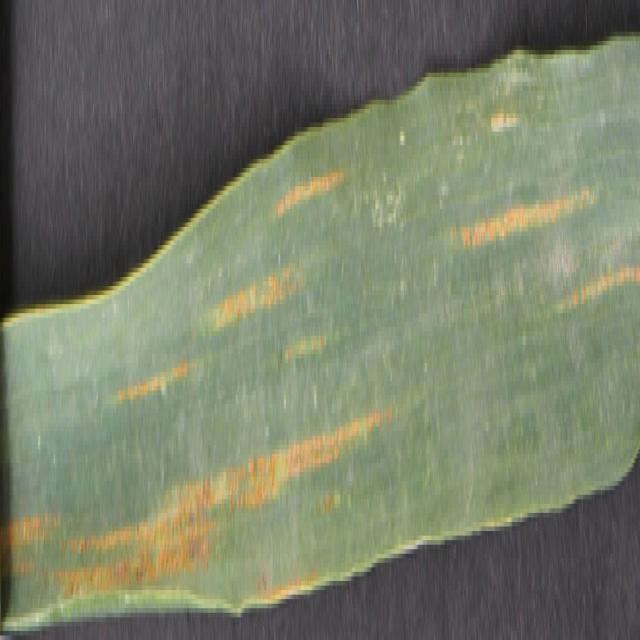leaf rust: (2, 154, 408, 608), (452, 122, 640, 354)
